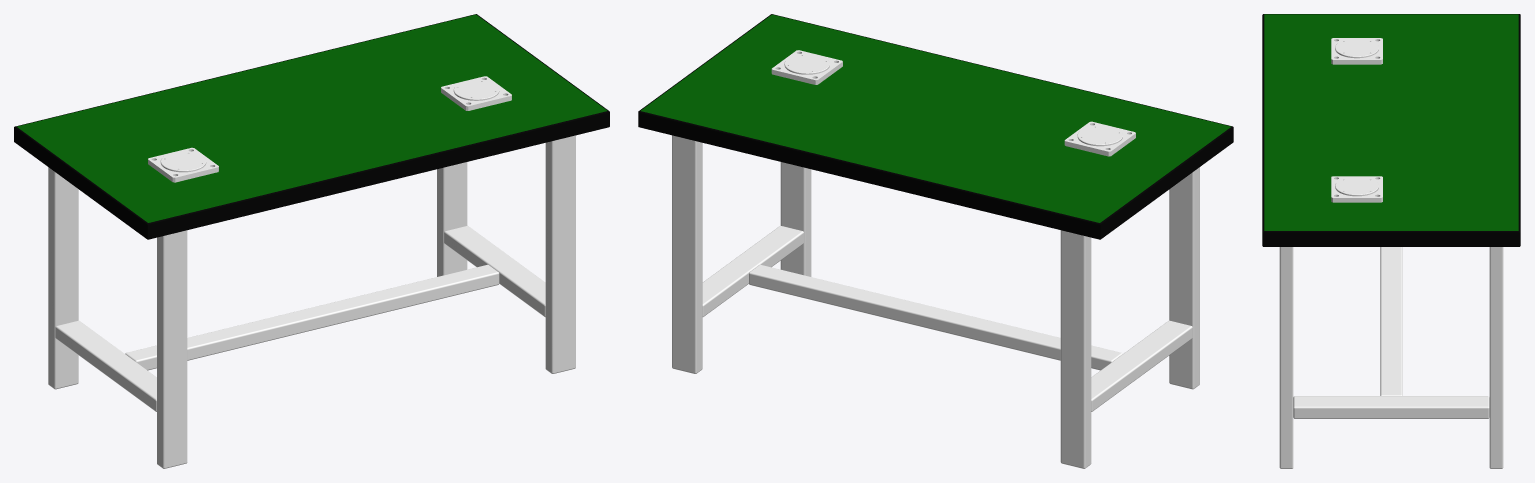
Rendered from ur3_table.dae.
The picture shows the model from 3 angles, left to right: view 1: azimuth 30°, elevation 25°; view 2: azimuth 150°, elevation 25°; view 3: azimuth 270°, elevation 25°; orthographic projection. The views are drawn at different scales.
Parts seen in each view (by area): view 1: support11_stp (×11); view 2: support11_stp (×11); view 3: support11_stp (×8).
Part boxes in pixels (x1=…): support11_stp (×11): x1=14, y1=14, x2=609, y2=468; support11_stp (×11): x1=638, y1=14, x2=1233, y2=468; support11_stp (×8): x1=1262, y1=14, x2=1520, y2=468.
Bounding box in the file's own units: 1500 × 750 × 820.
